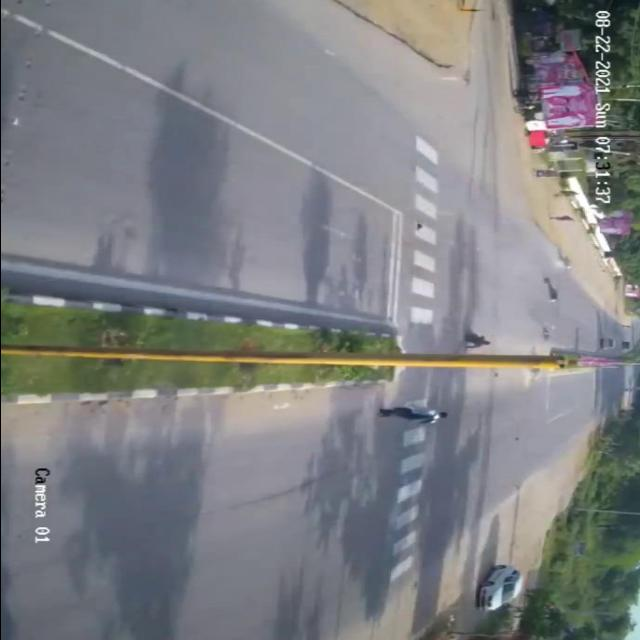accident: (524, 246, 582, 350)
